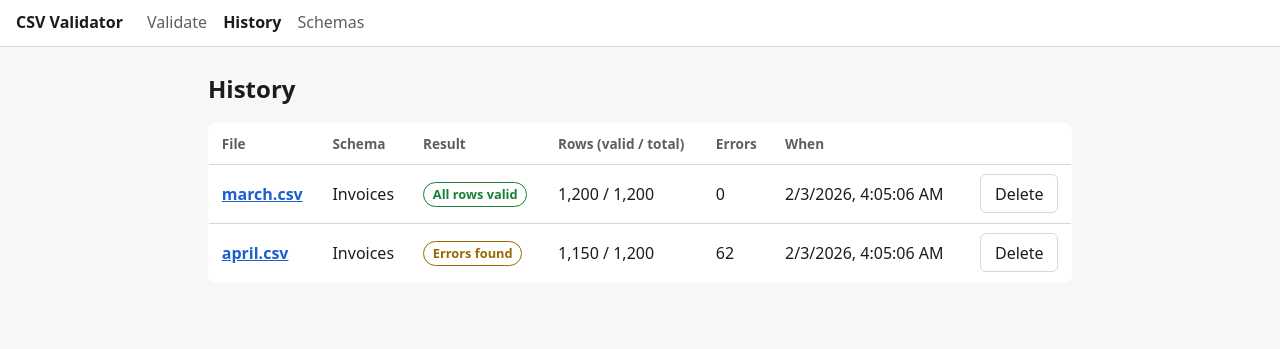
Test: History: deleting a run (FR-27) › confirms, deletes and refreshes the list
Click the button with aria-label "Delete run of march.csv" at (1019, 194), box [980,174,1058,213]
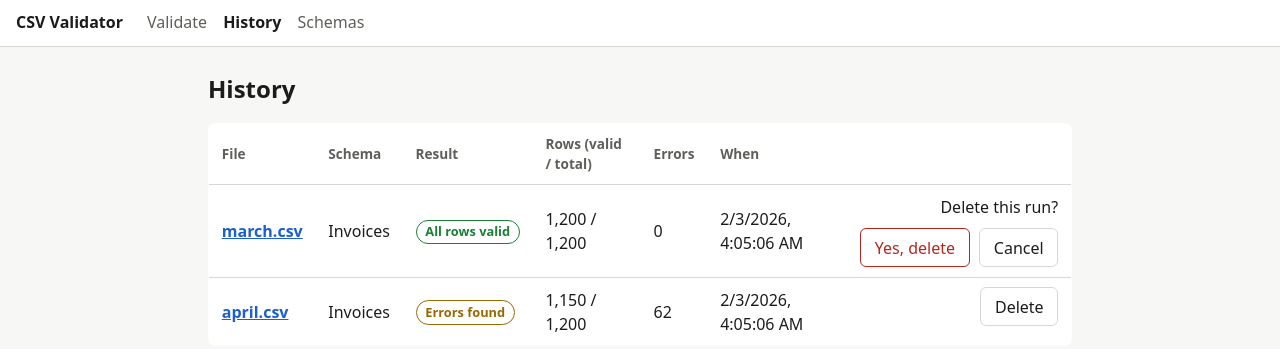
Now the text "Delete this run?" is shown, box [940,195,1058,219]
Click the button "Yes, delete" at (915, 248), box [860,228,970,267]
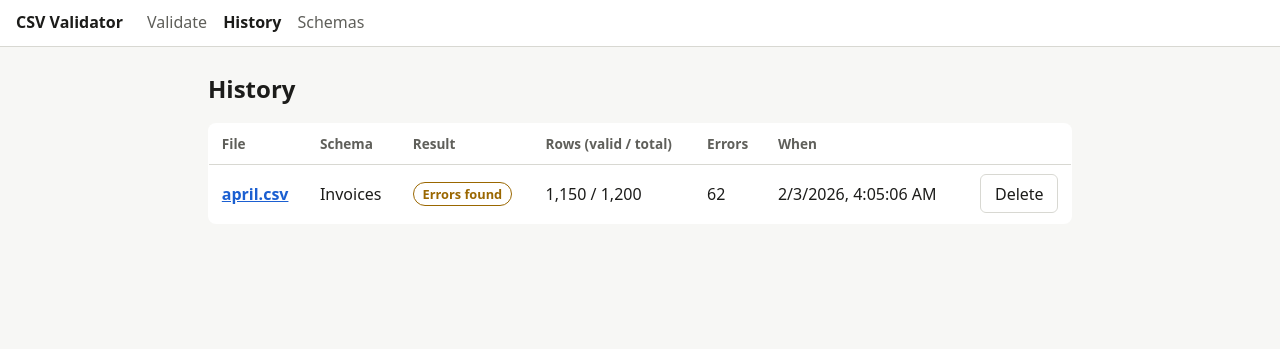
Expected: the link "april.csv" is shown, [222,183,288,205]
Now the link "march.csv" is gone
